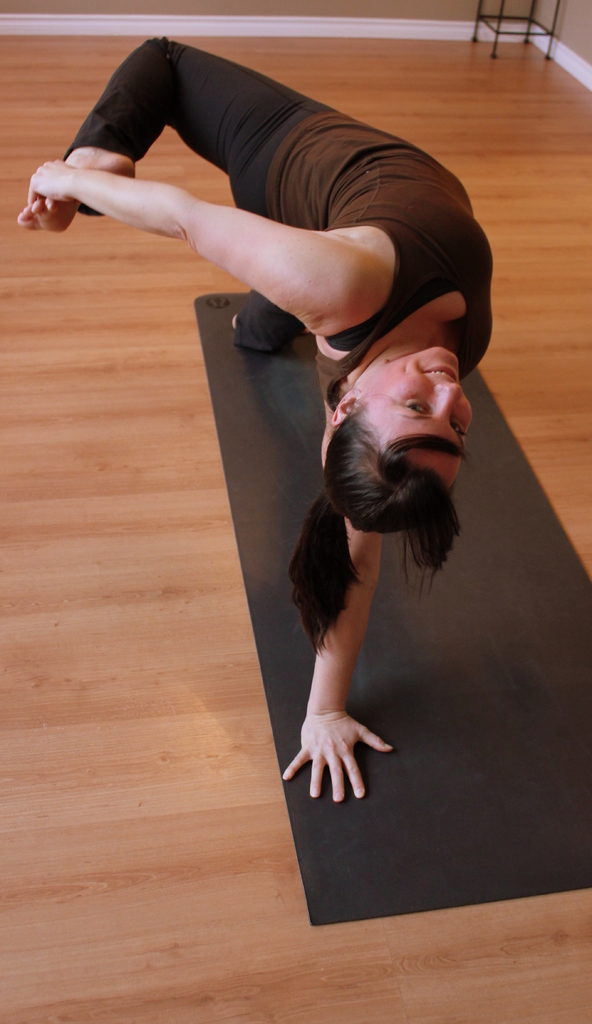Person: (17, 36, 493, 801)
